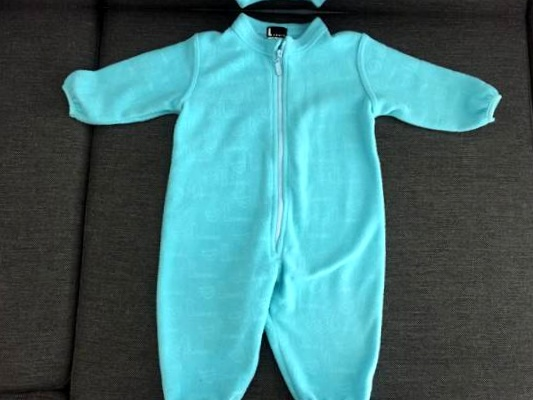Body: (40, 12, 522, 400), (49, 0, 531, 10)
